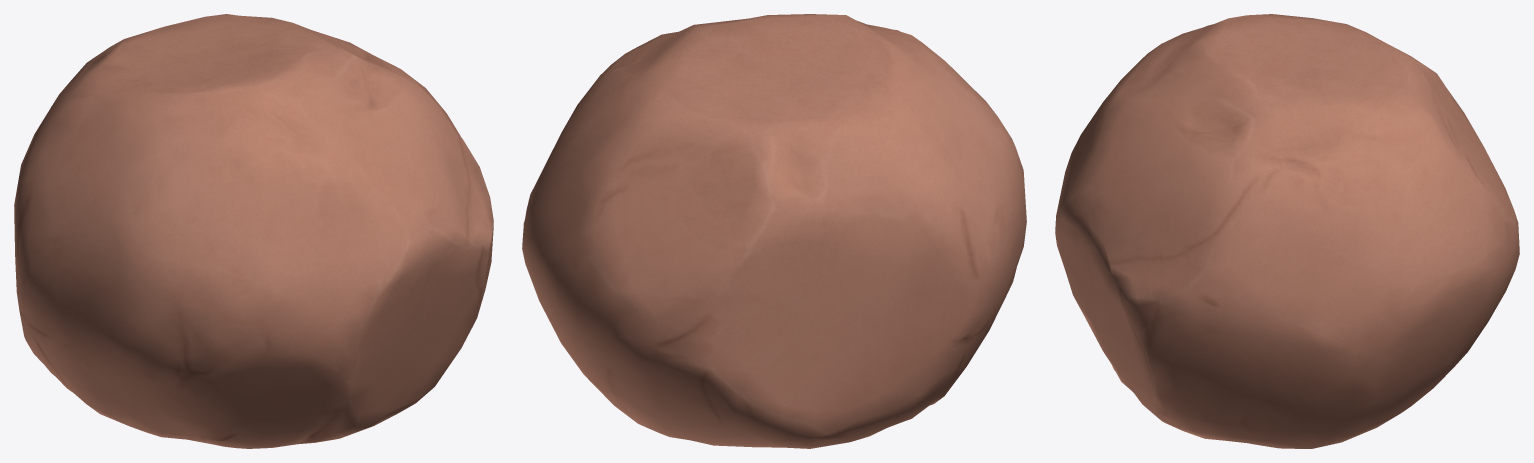
The model's file is kamen-gladkiy.glb.
3 views of the same model, side by side, from view 1: azimuth 30°, elevation 25°; view 2: azimuth 150°, elevation 25°; view 3: azimuth 270°, elevation 25° (orthographic). The views are drawn at different scales.
Visible parts, largest first — view 1: geometry_0; view 2: geometry_0; view 3: geometry_0.
Boxes of the visible parts, x1=… form: geometry_0: x1=14, y1=14, x2=493, y2=448; geometry_0: x1=522, y1=14, x2=1026, y2=448; geometry_0: x1=1055, y1=14, x2=1519, y2=448.
Bounding box in the file's own units: 0.9954 × 0.7967 × 0.9986.
1 material, 1 textured.
